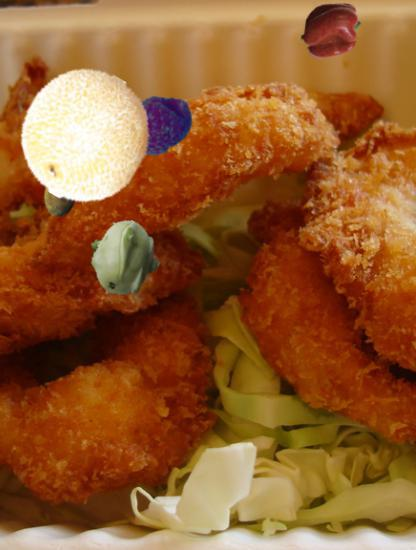Cactus: (29, 153, 94, 218)
Cantaloupe: (18, 69, 152, 203)
Eggplant: (22, 100, 74, 152)
Kohlrabi: (84, 219, 163, 298)
Pepper: (301, 1, 361, 61)
Raspberry: (127, 89, 194, 156)
